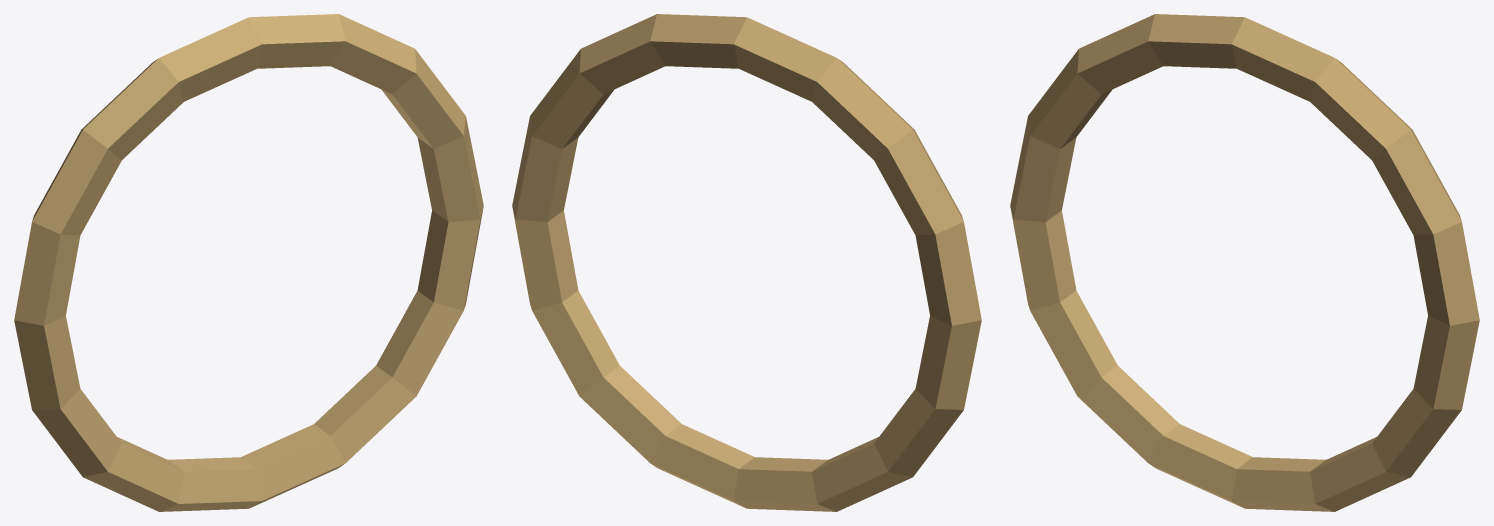
The model's file is m37_level_1.glb.
3 renders of one model, left to right at view 1: azimuth 30°, elevation 25°; view 2: azimuth 150°, elevation 25°; view 3: azimuth 330°, elevation 25°, orthographic.
Parts seen in each view (by area): view 1: m37_level_1; view 2: m37_level_1; view 3: m37_level_1.
Boxes of the visible parts, <box> form: m37_level_1: <box>14,14,483,511</box>; m37_level_1: <box>512,14,981,511</box>; m37_level_1: <box>1010,14,1479,511</box>.
Size of the model in its own units: 0.78 by 0.78 by 0.0761.
